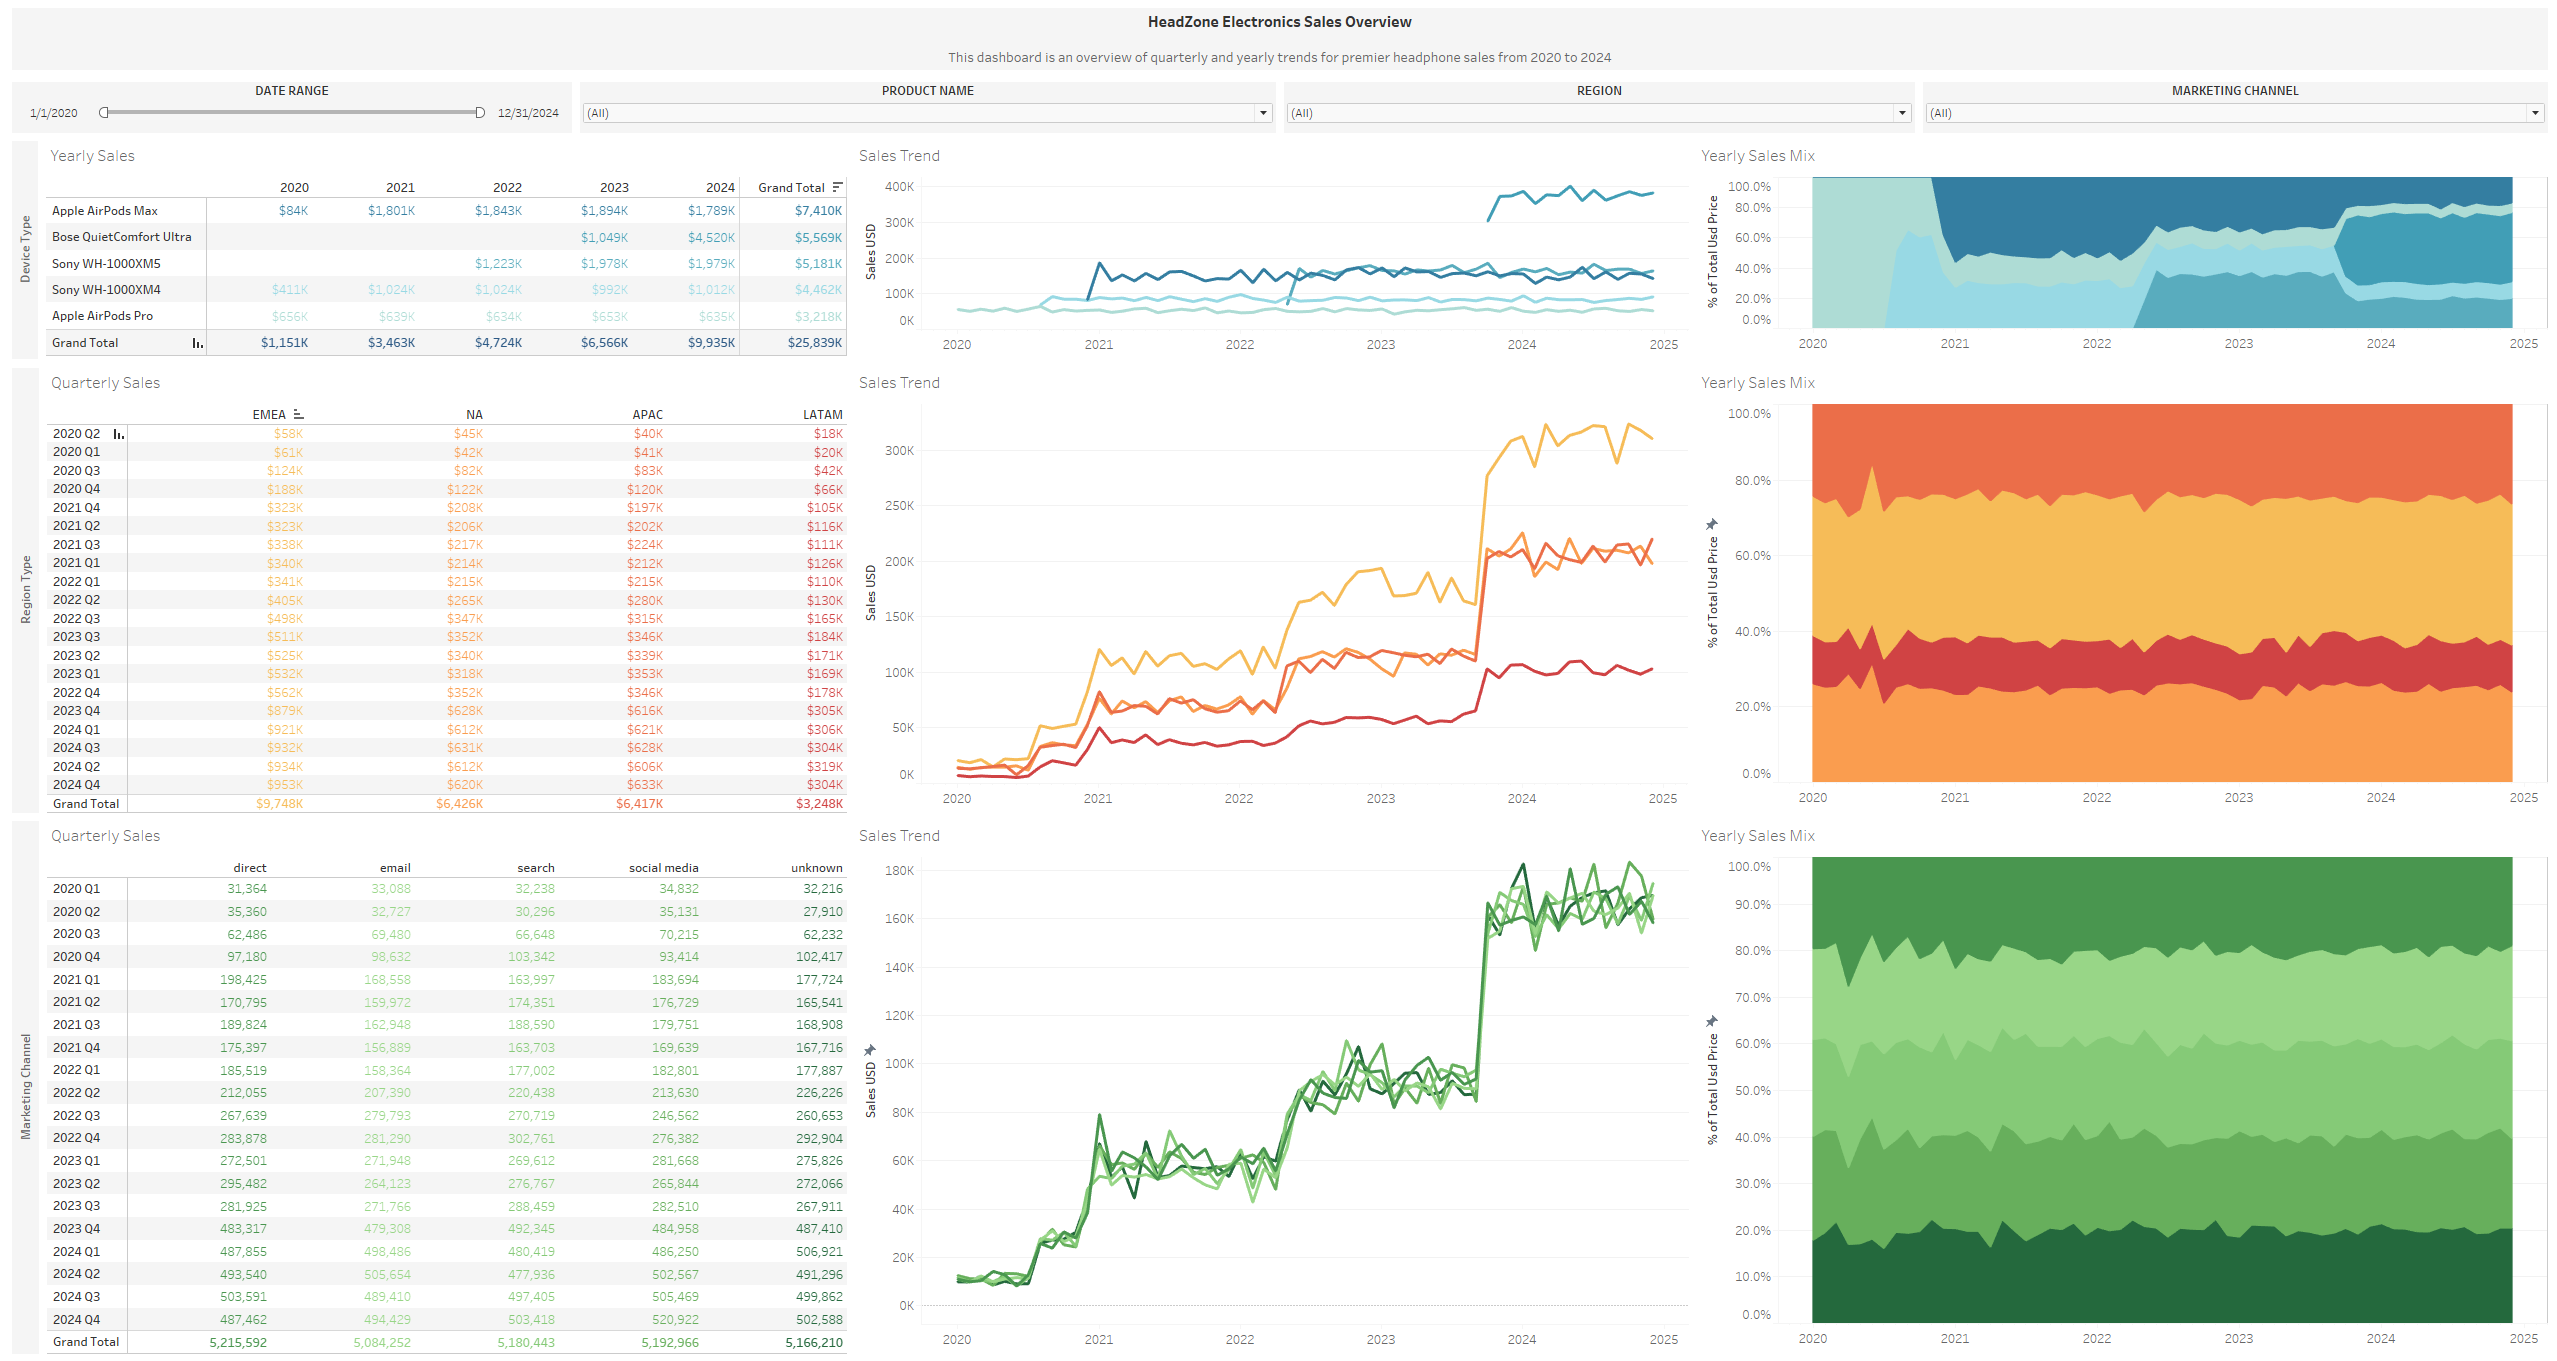

The dashboard page shown, as its layout file describes it:
{"tool":"tableau","page":{"name":"sales Dashboard","canvas":[1000,1000],"units":"permille","ordinal":0},"visuals":[{"type":"text","box":[3.4,6.5,993.2,53.9]},{"type":"filter","title":"products Table","param":"[federated.0w0d7lb0p55rap17gm96d0j6no7o].[none:PURCHASE_TS:qk]","box":[3.4,60.5,221.6,43.3]},{"type":"filter","title":"products Table","param":"[federated.0w0d7lb0p55rap17gm96d0j6no7o].[none:PRODUCT_NAME:nk]","box":[225,60.5,275,43.3]},{"type":"filter","title":"region Table","param":"[federated.0w0d7lb0p55rap17gm96d0j6no7o].[none:REGION:nk]","box":[500,60.5,249.7,43.3]},{"type":"filter","title":"marketing Table","param":"[federated.0w0d7lb0p55rap17gm96d0j6no7o].[none:MARKETING_CHANNEL:nk]","box":[749.6,60.5,247,43.3]},{"type":"text","box":[3.4,103.8,13.5,165]},{"type":"worksheet","title":"products Table","mark":"Automatic","rows":["PRODUCT_NAME"],"cols":["PURCHASE_TS"],"box":[16.9,103.8,315.8,165]},{"type":"worksheet","title":"products USD","mark":"Automatic","rows":["USD_PRICE"],"cols":["PURCHASE_TS"],"box":[332.7,103.8,328.3,165]},{"type":"worksheet","title":"products Mix","mark":"Area","cols":["PURCHASE_TS"],"box":[661,103.8,335.6,165]},{"type":"text","box":[3.4,268.8,13.5,330.1]},{"type":"worksheet","title":"region Table","mark":"Automatic","rows":["PURCHASE_TS"],"cols":["REGION"],"box":[16.9,268.8,315.8,330.1]},{"type":"worksheet","title":"region USD","mark":"Automatic","rows":["USD_PRICE"],"cols":["PURCHASE_TS"],"box":[332.7,268.8,328.4,330.1]},{"type":"worksheet","title":"region Mix","mark":"Area","cols":["PURCHASE_TS"],"box":[661.1,268.8,335.5,330.1]},{"type":"text","box":[3.4,598.8,13.5,394.6]},{"type":"worksheet","title":"marketing Table","mark":"Automatic","rows":["PURCHASE_TS"],"cols":["MARKETING_CHANNEL"],"box":[16.9,598.8,315.8,394.6]},{"type":"worksheet","title":"marketing USD","mark":"Automatic","rows":["USD_PRICE"],"cols":["PURCHASE_TS"],"box":[332.7,598.8,328.3,394.6]},{"type":"worksheet","title":"marketing Mix","mark":"Area","cols":["PURCHASE_TS"],"box":[661,598.8,335.6,394.6]}]}

Visuals, with their boxes on the dashboard's canvas, which has no fixed pixel size, in thousandths of its width and height (x1, y1, x2, y2). These are canvas units, not pixel positions in the 2557x1361 screenshot, which may show the page scaled, cropped or inside an application window:
text: (3, 6, 997, 60)
"products Table" filter: (3, 60, 225, 104)
"products Table" filter: (225, 60, 500, 104)
"region Table" filter: (500, 60, 750, 104)
"marketing Table" filter: (750, 60, 997, 104)
text: (3, 104, 17, 269)
"products Table" worksheet: (17, 104, 333, 269)
"products USD" worksheet: (333, 104, 661, 269)
"products Mix" worksheet (Area marks): (661, 104, 997, 269)
text: (3, 269, 17, 599)
"region Table" worksheet: (17, 269, 333, 599)
"region USD" worksheet: (333, 269, 661, 599)
"region Mix" worksheet (Area marks): (661, 269, 997, 599)
text: (3, 599, 17, 993)
"marketing Table" worksheet: (17, 599, 333, 993)
"marketing USD" worksheet: (333, 599, 661, 993)
"marketing Mix" worksheet (Area marks): (661, 599, 997, 993)
